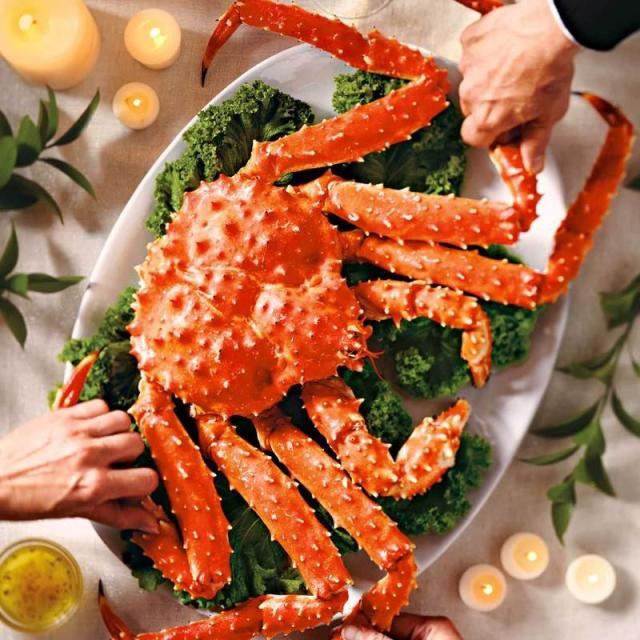crab: (114, 180, 452, 516)
